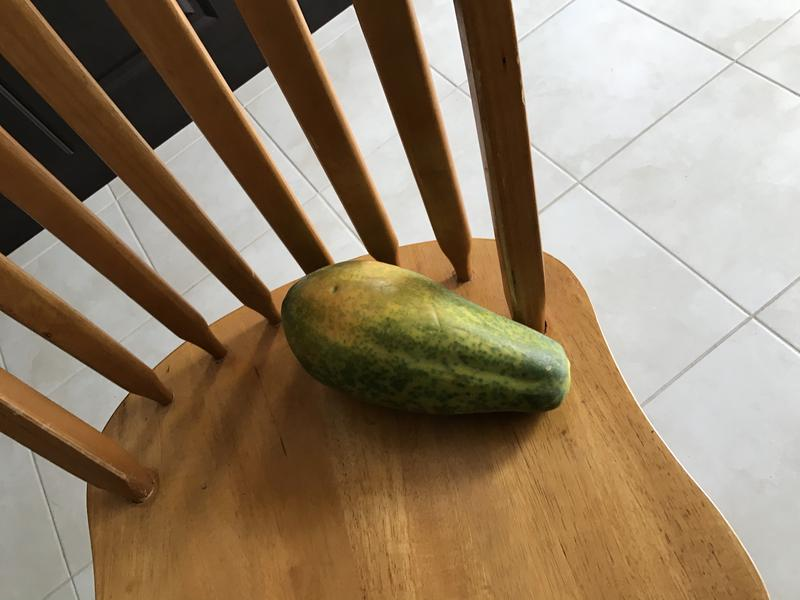papaya: (276, 252, 574, 427)
